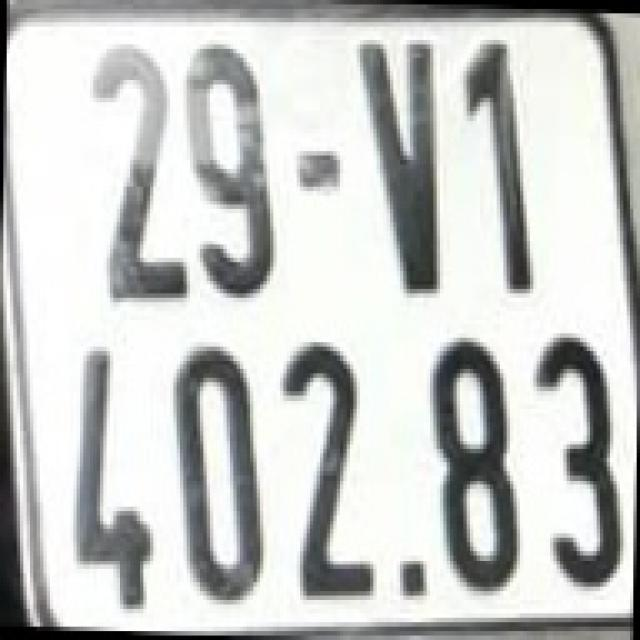0: (170, 338, 270, 609)
1: (460, 35, 547, 298)
2: (83, 36, 190, 306), (280, 333, 383, 604)
3: (534, 333, 624, 587)
4: (63, 342, 160, 614)
8: (429, 328, 524, 596)
9: (184, 40, 284, 302)
V: (357, 31, 450, 298)
